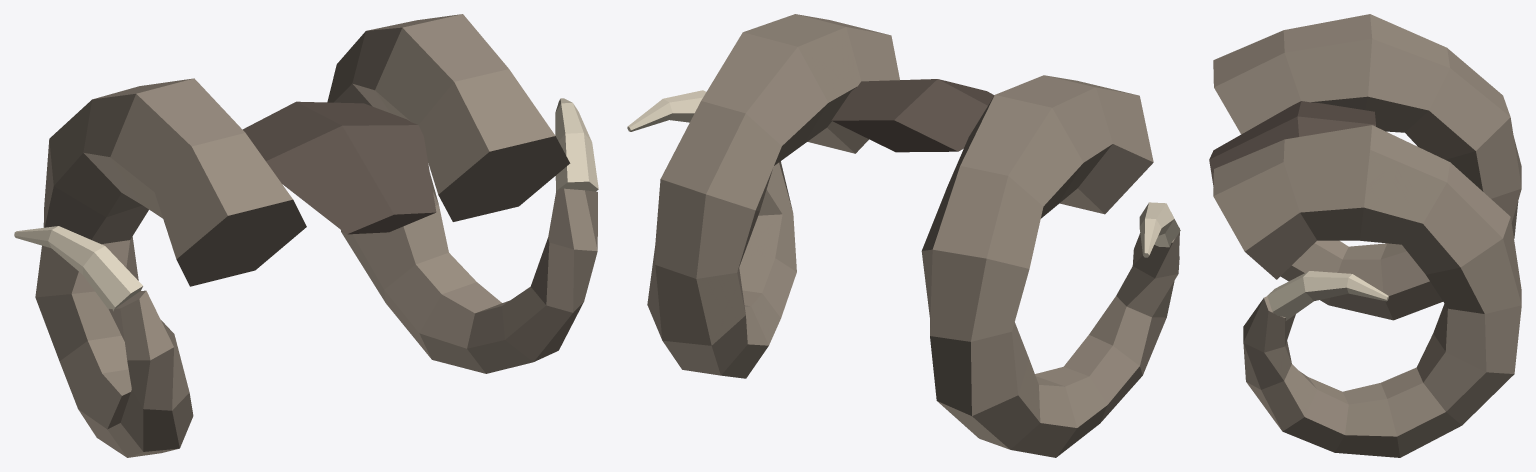
File: horn-brow.glb
3 views of the same model, side by side, from view 1: azimuth 30°, elevation 25°; view 2: azimuth 150°, elevation 25°; view 3: azimuth 270°, elevation 25° (orthographic). The views are drawn at different scales.
Parts seen in each view (by area): view 1: horn_brow; view 2: horn_brow; view 3: horn_brow.
Boxes of the visible parts, x1=… form: horn_brow: x1=14, y1=14, x2=598, y2=457; horn_brow: x1=627, y1=14, x2=1180, y2=457; horn_brow: x1=1209, y1=14, x2=1521, y2=457.
Size of the model in its own units: 0.3696 by 0.2252 by 0.2132.
